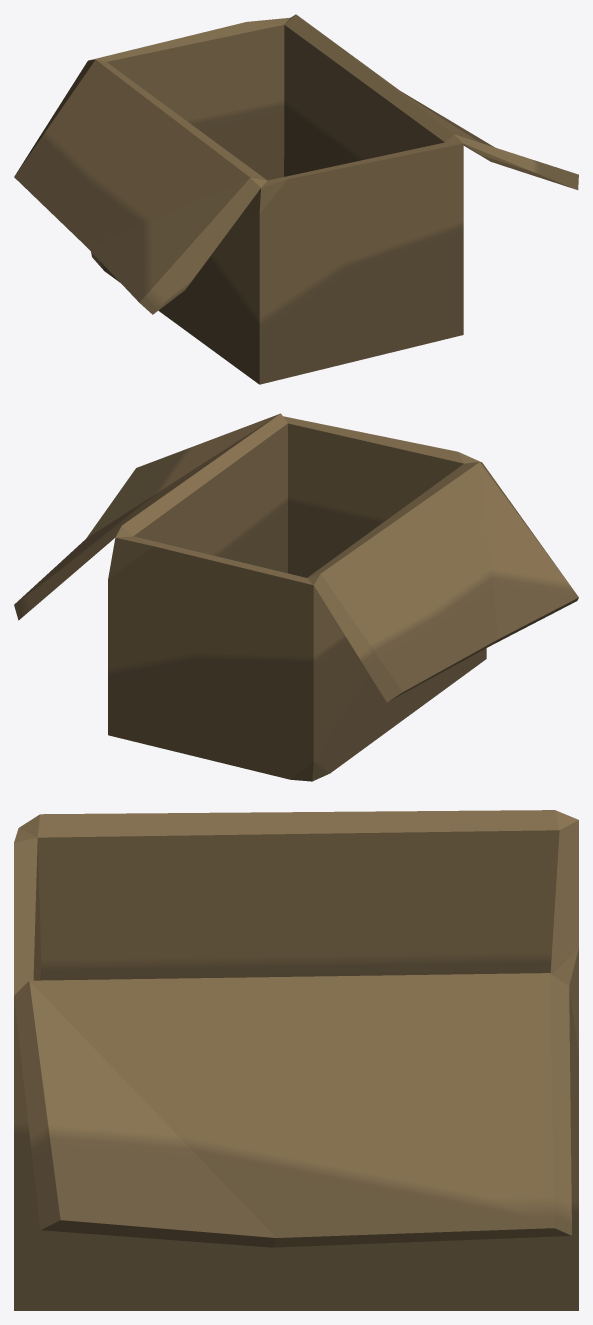
The model's file is SM_Prop_Cardboard_Box_05.fbx.
3 views of the same model, one above another, from view 1: azimuth 30°, elevation 25°; view 2: azimuth 150°, elevation 25°; view 3: azimuth 270°, elevation 25° (orthographic). The views are drawn at different scales.
Parts seen in each view (by area): view 1: SM_Prop_Cardboard_Box_05; view 2: SM_Prop_Cardboard_Box_05; view 3: SM_Prop_Cardboard_Box_05.
Part boxes in pixels (x1=…): SM_Prop_Cardboard_Box_05: x1=14, y1=14, x2=578, y2=384; SM_Prop_Cardboard_Box_05: x1=14, y1=413, x2=578, y2=781; SM_Prop_Cardboard_Box_05: x1=14, y1=810, x2=578, y2=1310.
Bounding box in the file's own units: 108 × 47.96 × 72.82.
